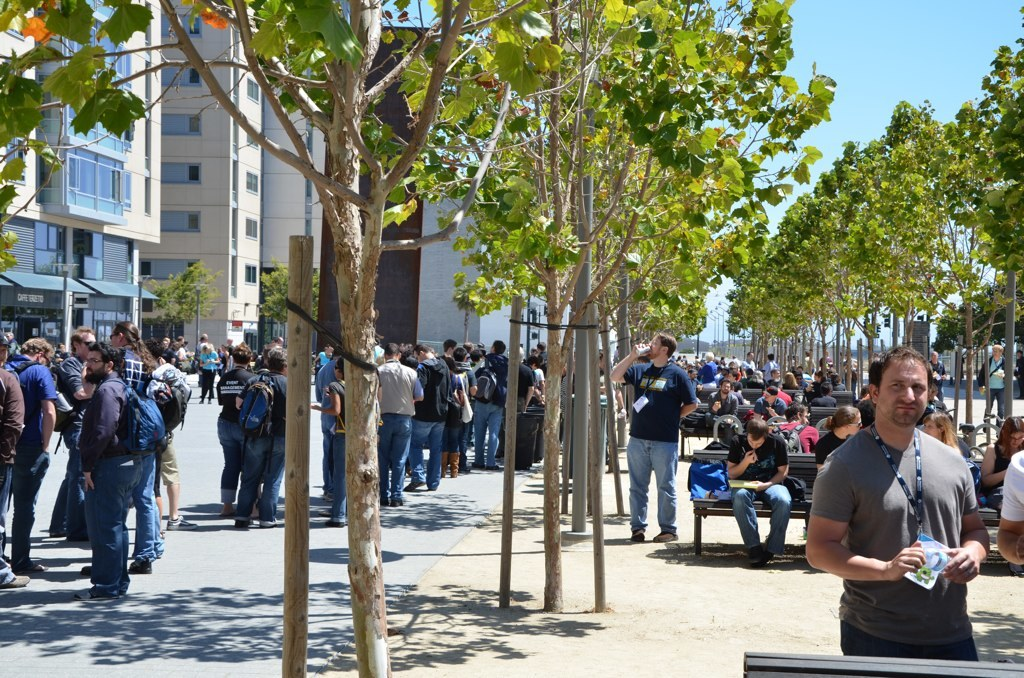Tree: (0, 0, 835, 676), (718, 1, 1022, 445)
